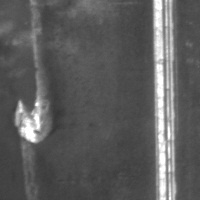scratches: (149, 1, 182, 200), (20, 1, 46, 177), (13, 86, 58, 144)
